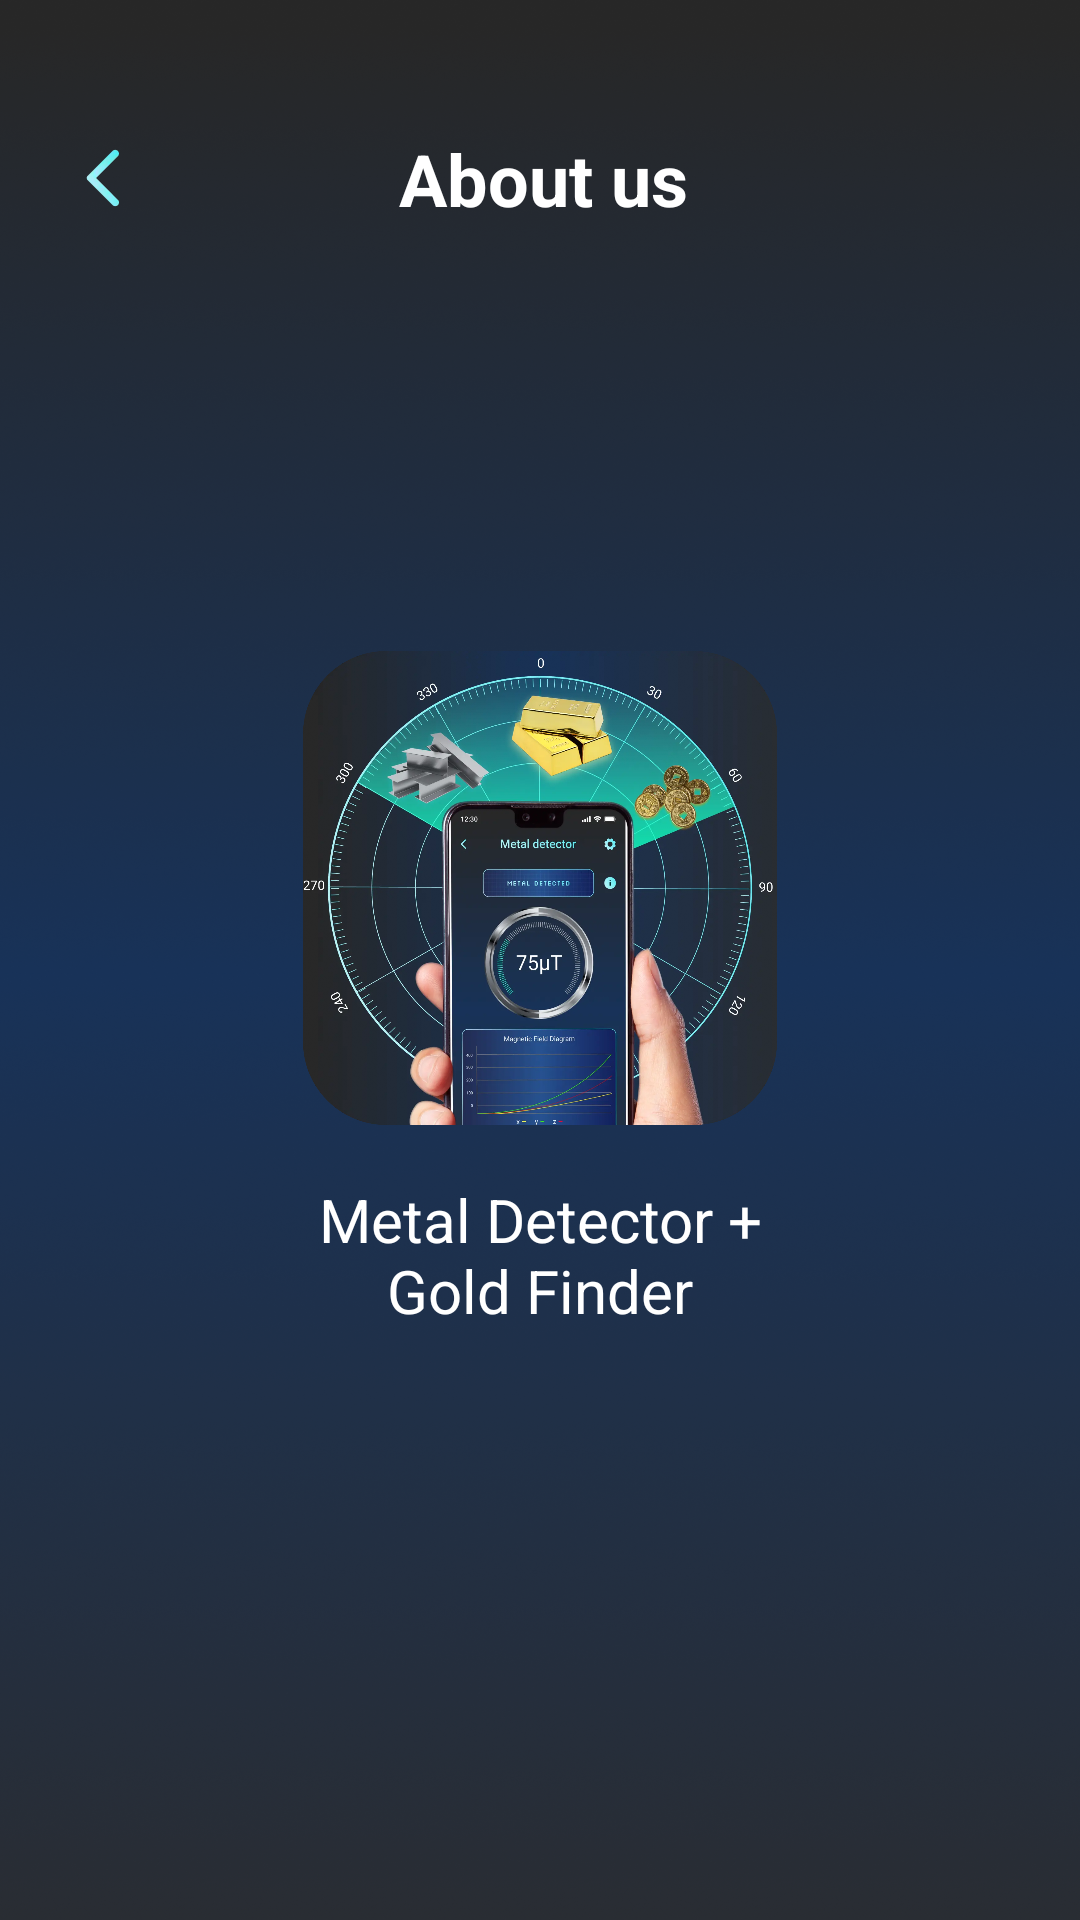

Named icons in this screenshot (1080px×1920px) and their bounding boxes, {"left": x1, "top": y1, "right": x2, "bottom": y2}:
icback: {"left": 86, "top": 150, "right": 119, "bottom": 207}
